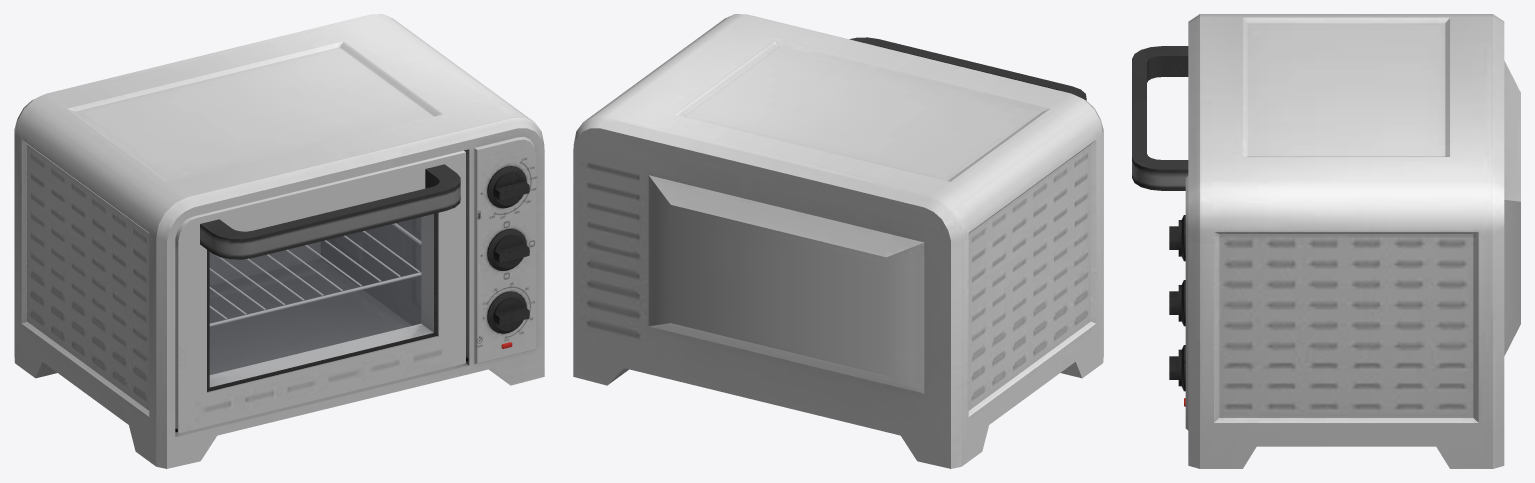
The model's file is fit-oven.glb.
The picture shows the model from 3 angles, left to right: view 1: azimuth 30°, elevation 25°; view 2: azimuth 150°, elevation 25°; view 3: azimuth 270°, elevation 25°; orthographic projection. The views are drawn at different scales.
Bounding box in the file's own units: 56.4 × 36.4 × 47.26.
Materials: 9 (6 with a texture image).
